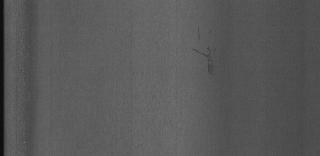water spot: (184, 28, 223, 78)
